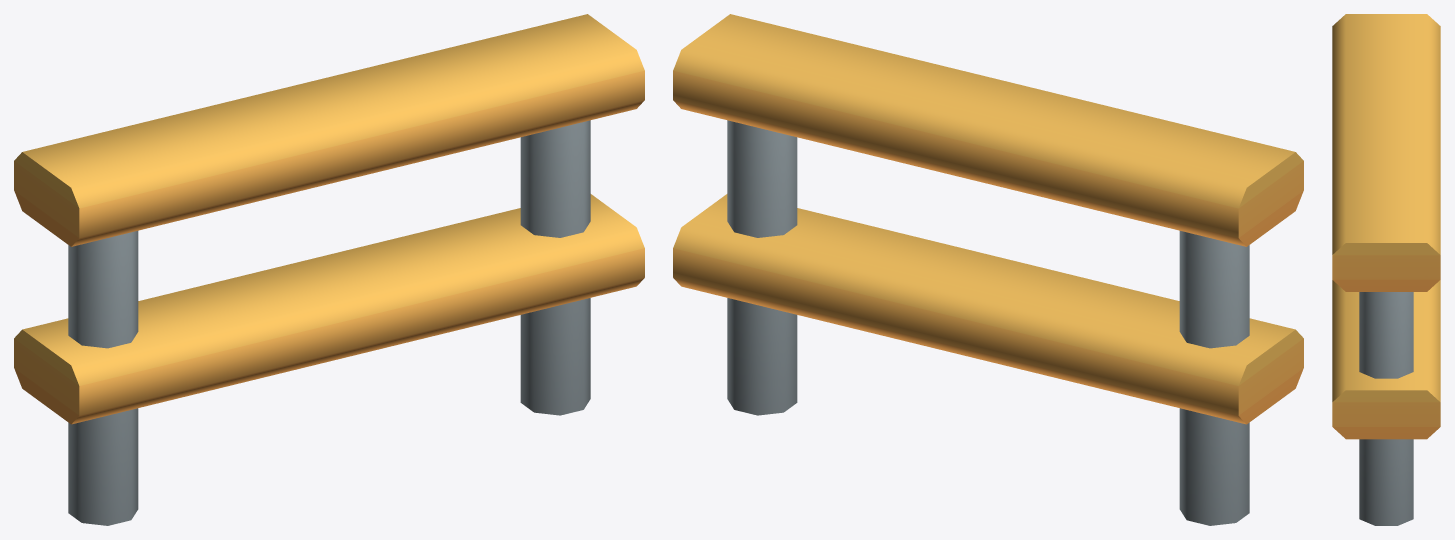
Rendered from railing_straight_double_yellow.glb.
The picture shows the model from 3 angles, left to right: view 1: azimuth 30°, elevation 25°; view 2: azimuth 150°, elevation 25°; view 3: azimuth 270°, elevation 25°; orthographic projection. The views are drawn at different scales.
Parts seen in each view (by area): view 1: railing_straight_double_yellow; view 2: railing_straight_double_yellow; view 3: railing_straight_double_yellow.
Part boxes in pixels (box(x1,y1,x2,y2)): railing_straight_double_yellow: box(14, 14, 644, 525); railing_straight_double_yellow: box(673, 14, 1303, 525); railing_straight_double_yellow: box(1332, 14, 1440, 525).
Size of the model in its own units: 2 by 1.2 by 0.4.
Materials: 1 (1 with a texture image).
